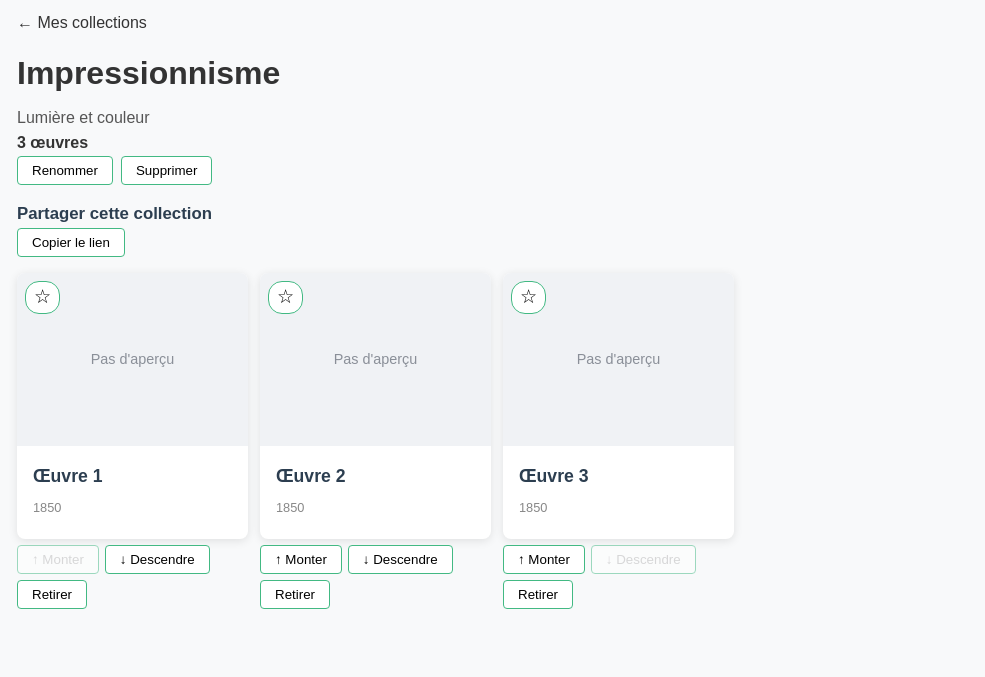
Test: CollectionView › explique un stockage refusé lors d’une modification
Click the button with test id "oeuvre-retirer" below "Œuvre 1". click: (52, 594)
box: [17,580,87,609]
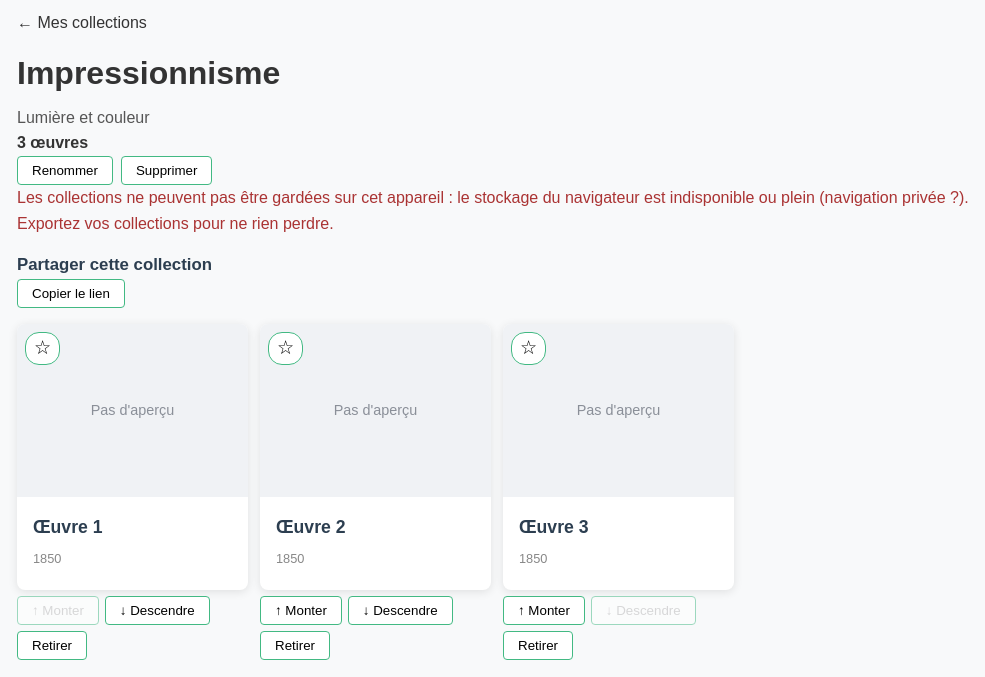
Expected: the text with test id "collection-compte" reads "3 œuvres", [17,134,88,151]
Expected: the message with test id "collection-erreur" shows "ne peuvent pas être gardées", [17,189,969,232]
